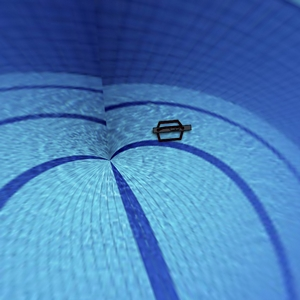submarine: (147, 108, 194, 153)
